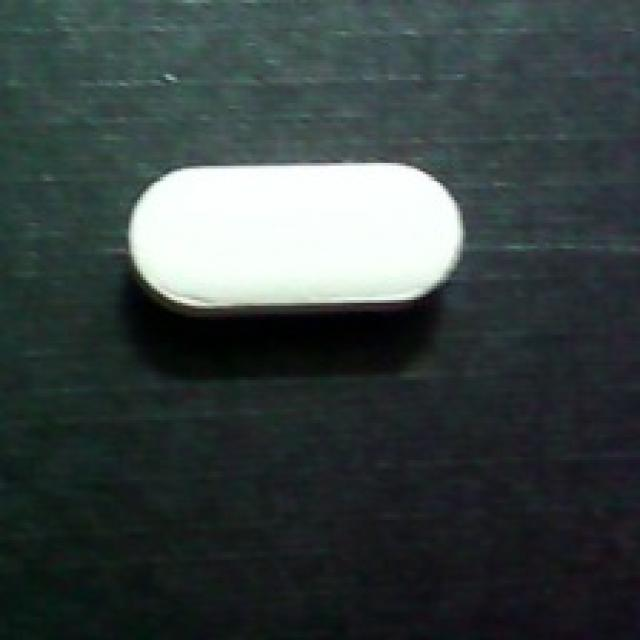no-defect: (123, 151, 480, 323)
